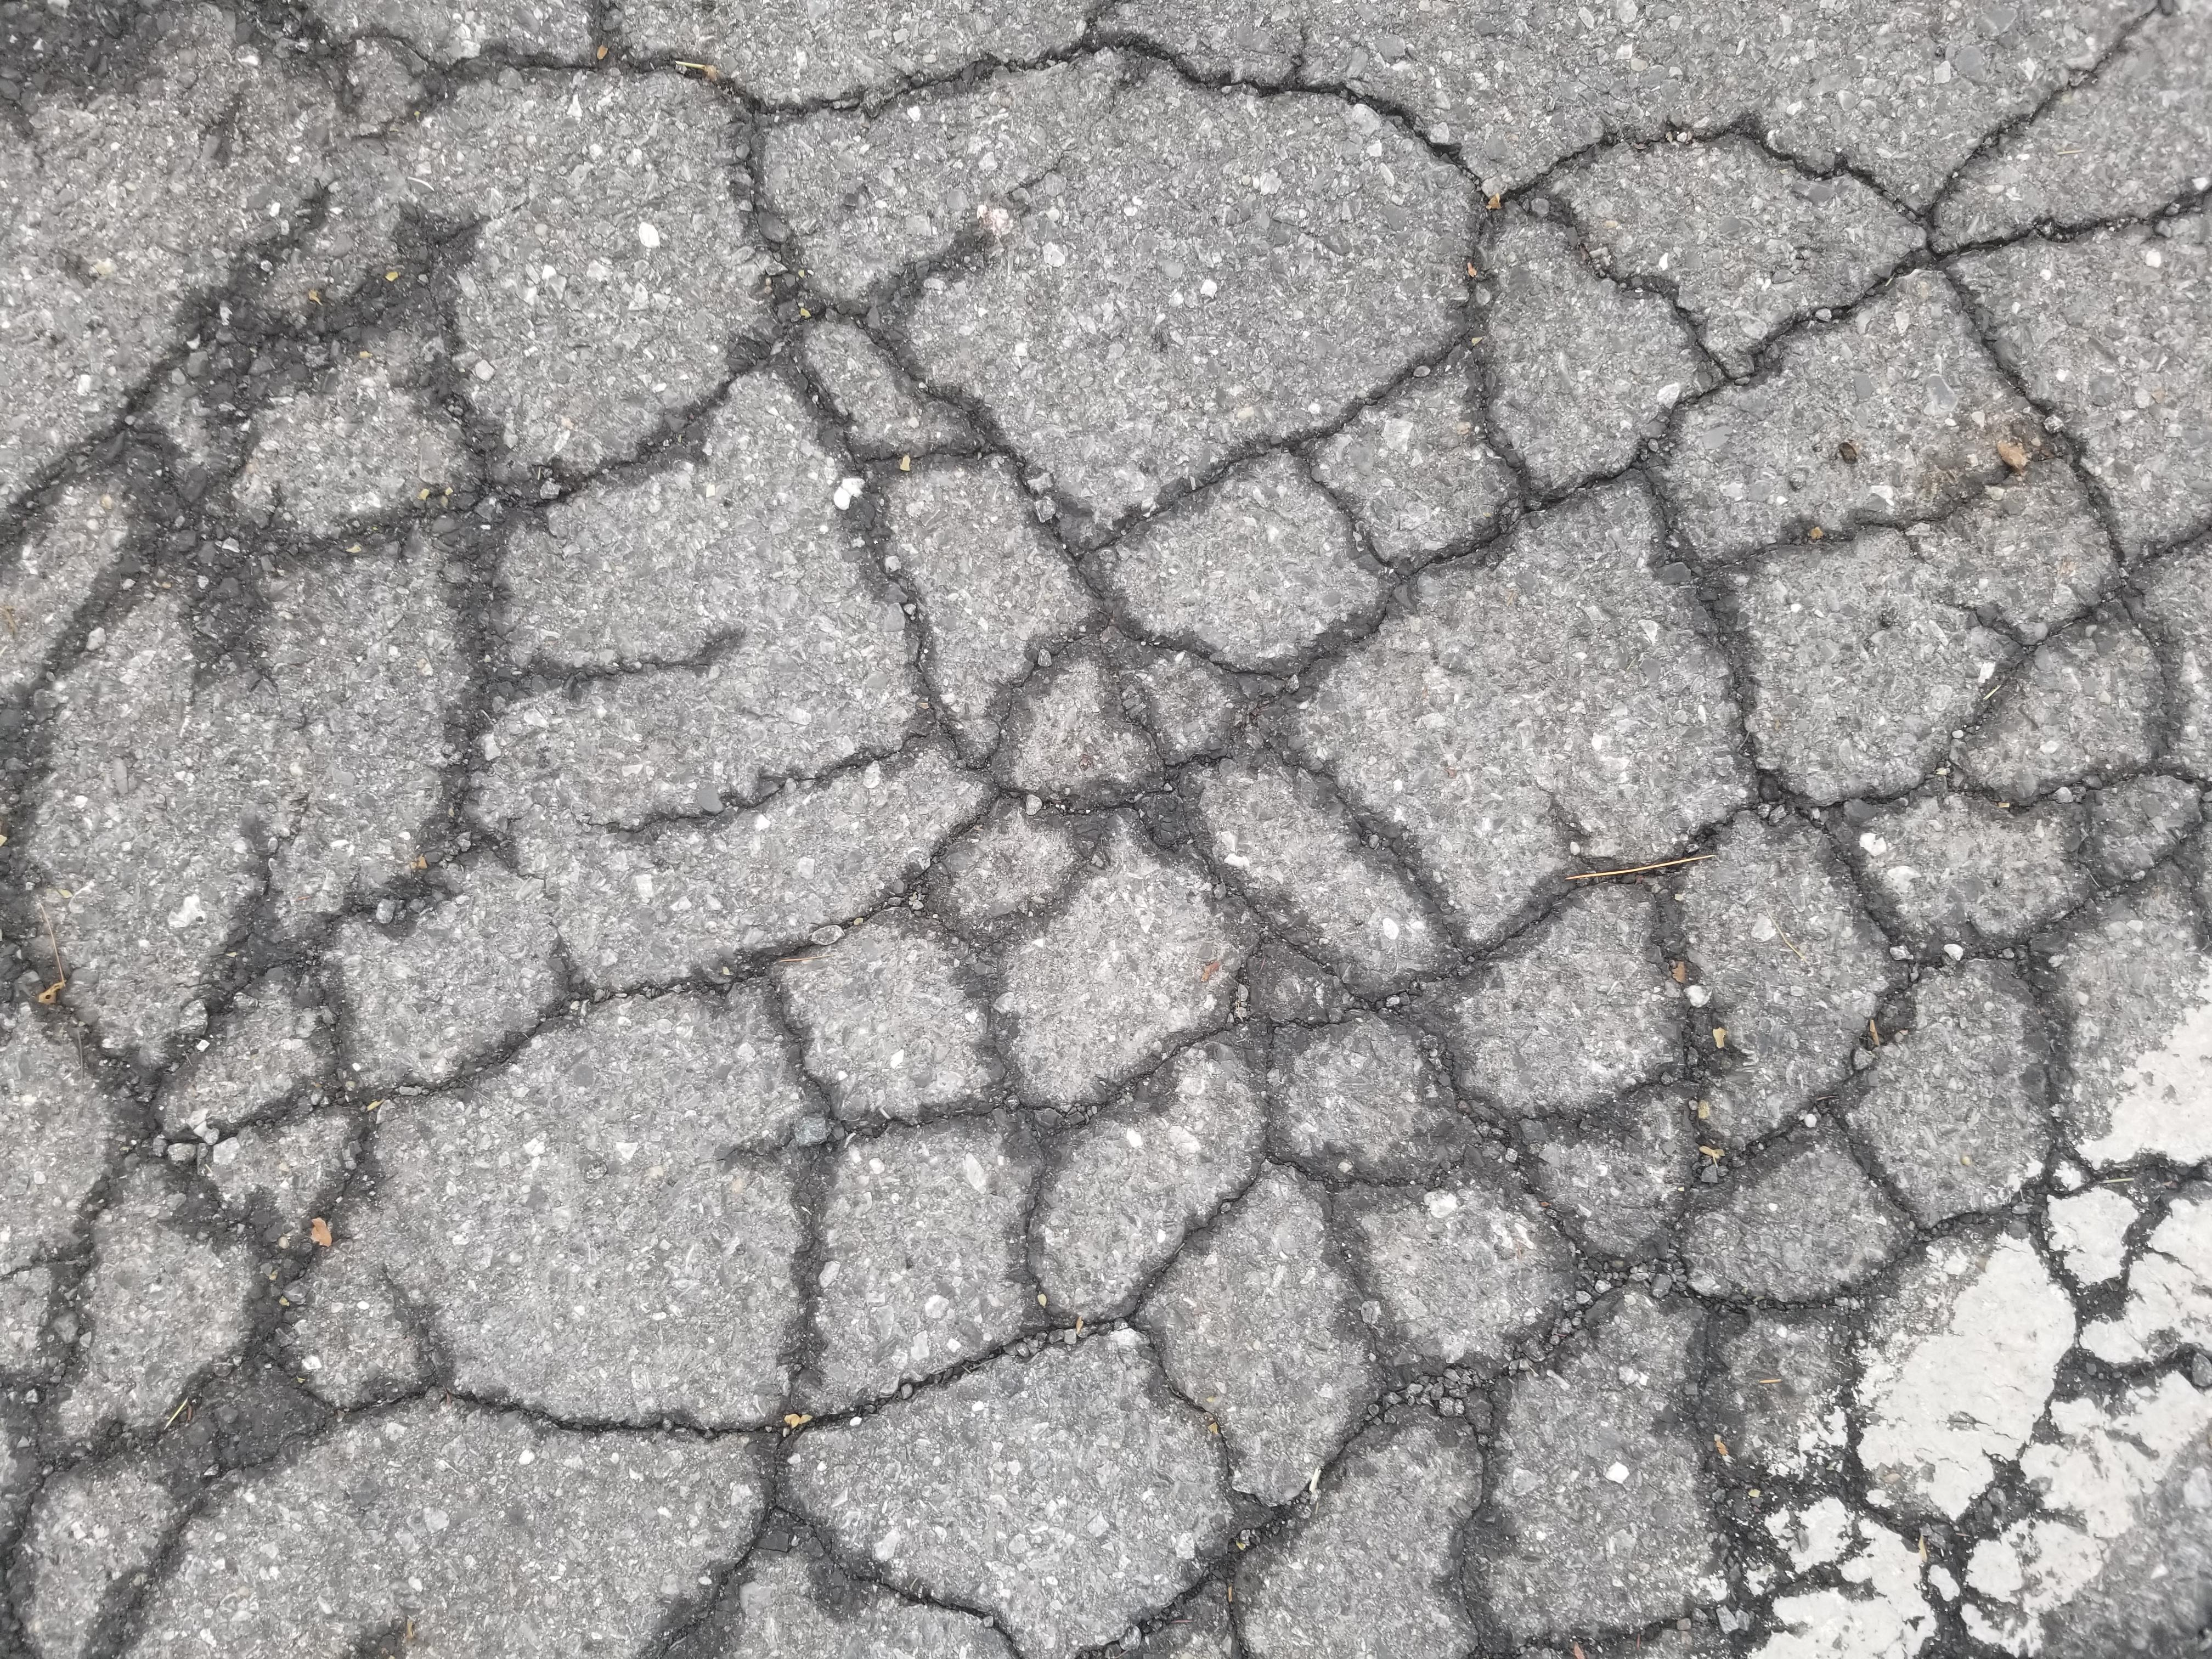alligator-crack: (0, 9, 2205, 1659)
